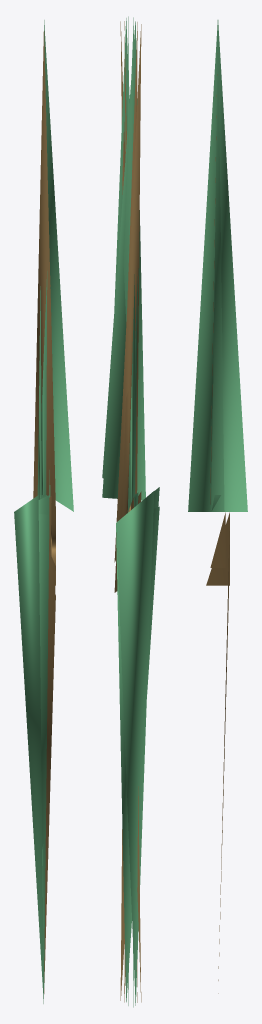
The model's file is equip_weapon_adamant_scimitar.glb.
3 renders of one model, left to right at view 1: azimuth 90°, elevation 25°; view 2: azimuth 150°, elevation 25°; view 3: azimuth 270°, elevation 25°, orthographic.
Parts seen in each view (by area): view 1: equip_weapon_adamant_scimitar; view 2: equip_weapon_adamant_scimitar; view 3: equip_weapon_adamant_scimitar.
Boxes of the visible parts, x1,y1,x2,y2 form: equip_weapon_adamant_scimitar: (14,20,73,1003); equip_weapon_adamant_scimitar: (102,16,159,1007); equip_weapon_adamant_scimitar: (188,20,247,993).
Size of the model in its own units: 0.11 by 2 by 0.11.
